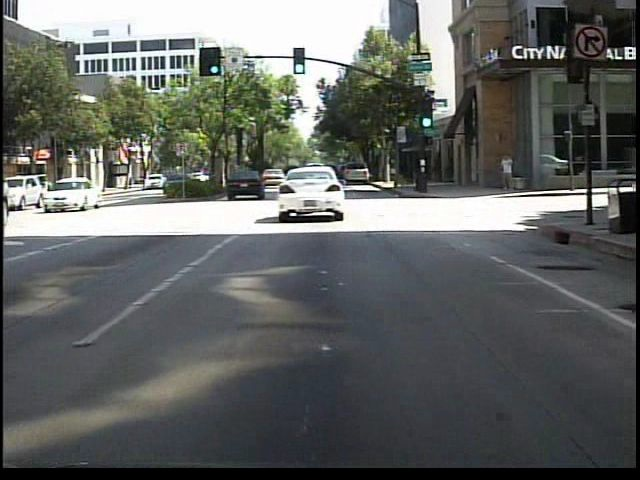person: (496, 153, 515, 196)
